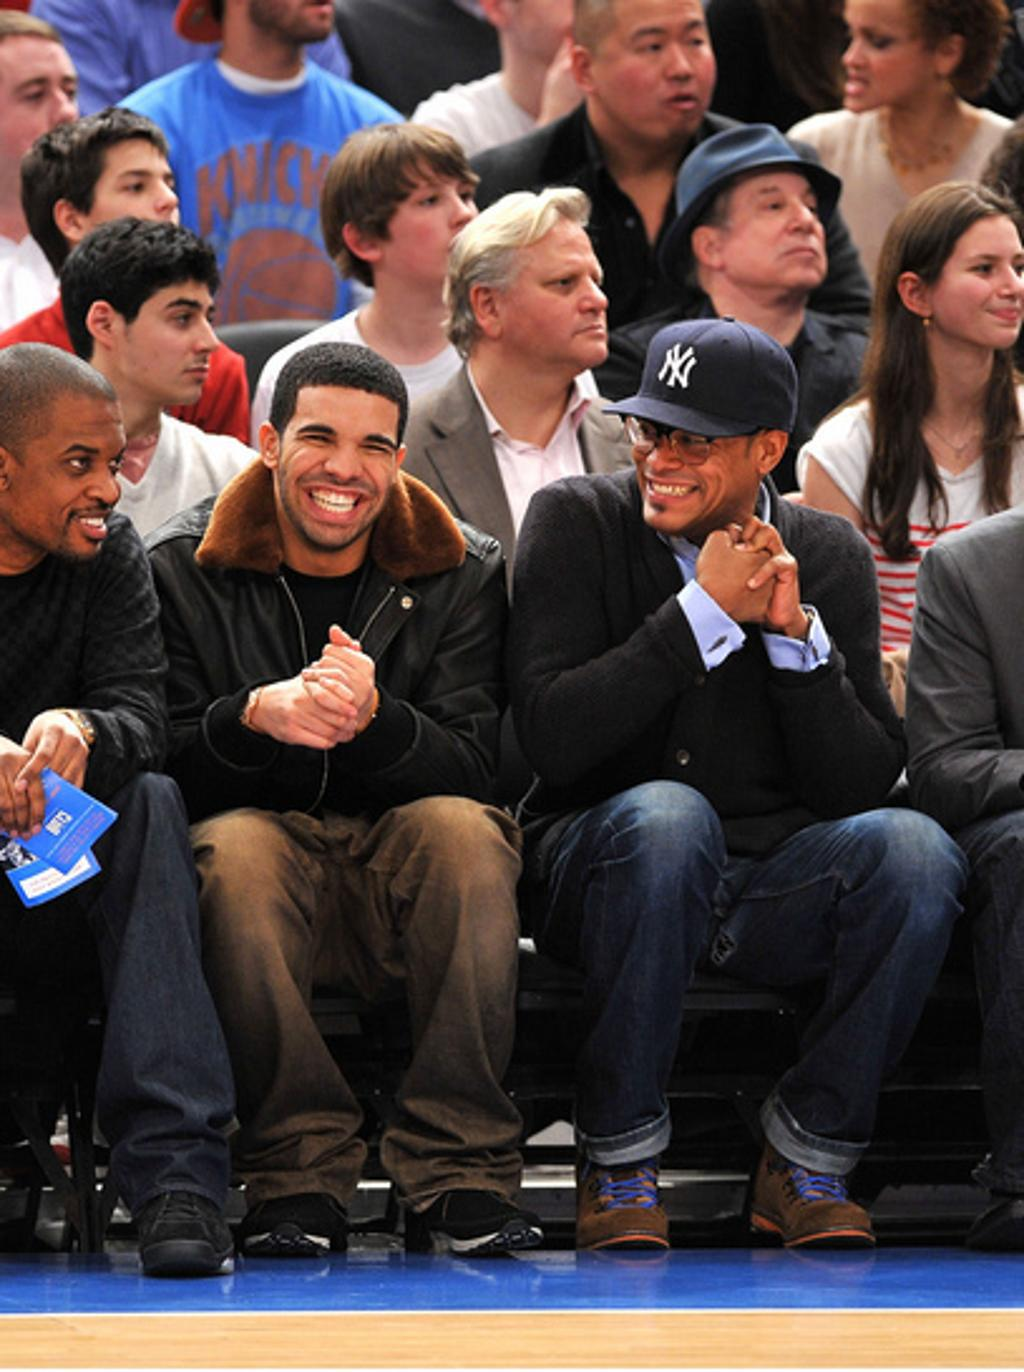face: (639, 360, 765, 537), (22, 360, 129, 561), (285, 382, 403, 551), (116, 237, 223, 390), (508, 213, 610, 355), (84, 132, 189, 269), (384, 146, 483, 288), (612, 12, 719, 141), (730, 167, 829, 290), (937, 210, 1023, 347), (14, 30, 86, 183), (835, 12, 934, 114)
